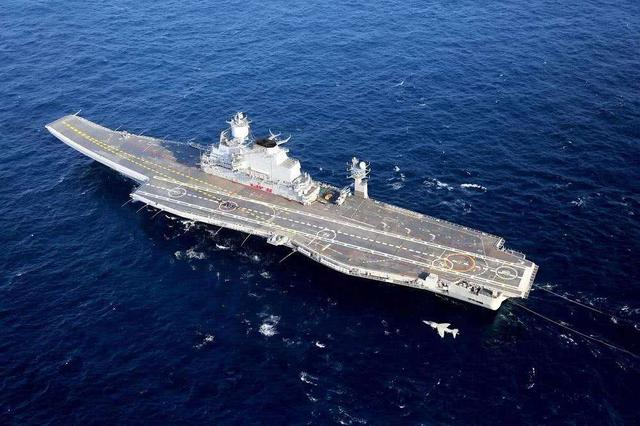warship: (38, 110, 542, 312)
